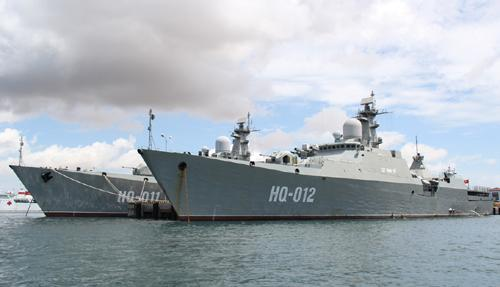MIL_Ship: (134, 89, 493, 222), (5, 147, 176, 219)
